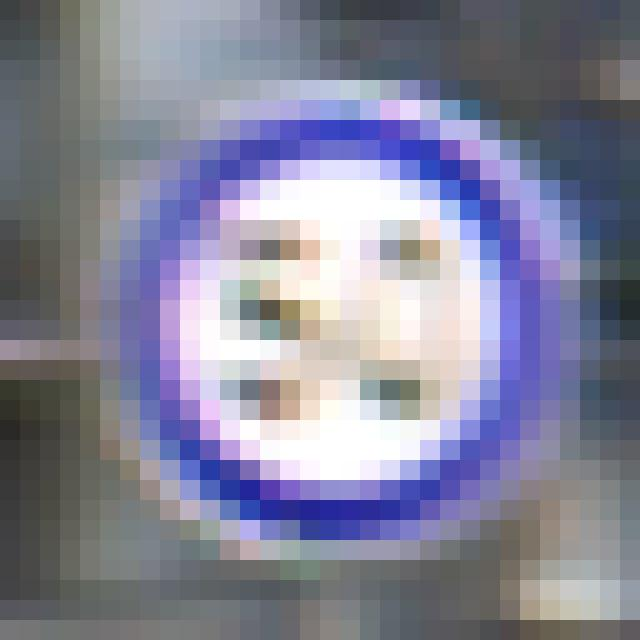SPEED LIMIT 50: (118, 126, 540, 540)
